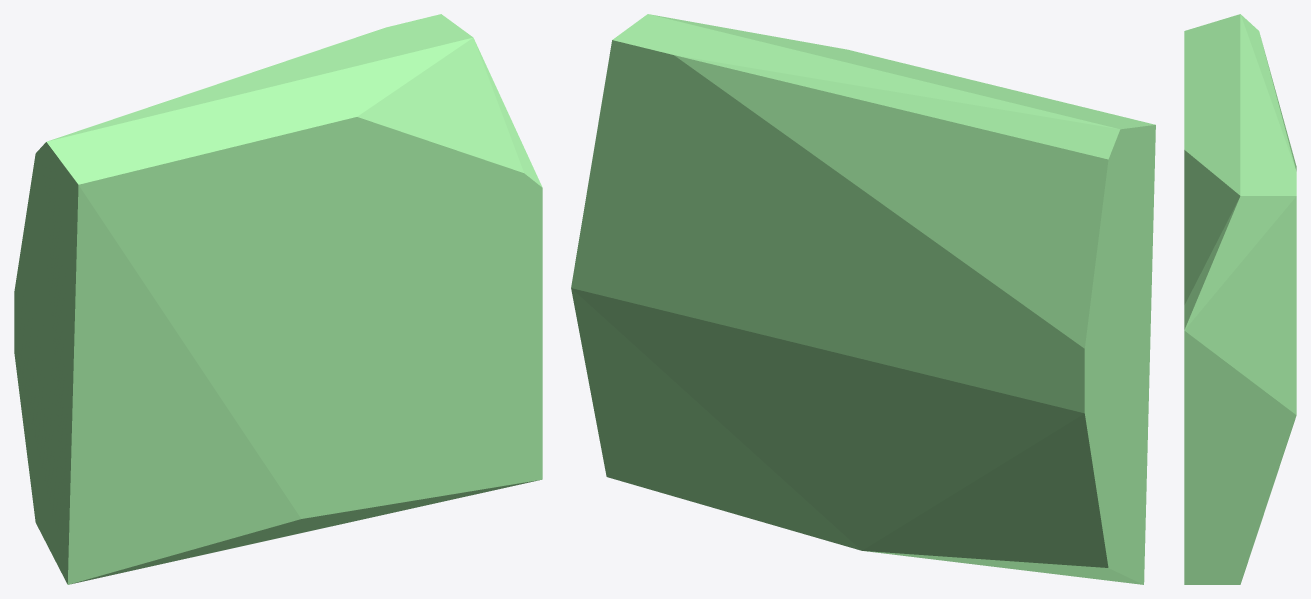
The model's file is rambler_robot_base_coll_43.dae.
The picture shows the model from 3 angles, left to right: view 1: azimuth 30°, elevation 25°; view 2: azimuth 150°, elevation 25°; view 3: azimuth 270°, elevation 25°; orthographic projection. The views are drawn at different scales.
Parts seen in each view (by area): view 1: Node_0x7fe0fc4d5380; view 2: Node_0x7fe0fc4d5380; view 3: Node_0x7fe0fc4d5380.
Part boxes in pixels (x1,y1,x2,y2): Node_0x7fe0fc4d5380: [14, 14, 542, 584]; Node_0x7fe0fc4d5380: [571, 14, 1155, 584]; Node_0x7fe0fc4d5380: [1184, 14, 1296, 584].
Bounding box in the file's own units: 0.3422 × 0.3011 × 0.0821.
